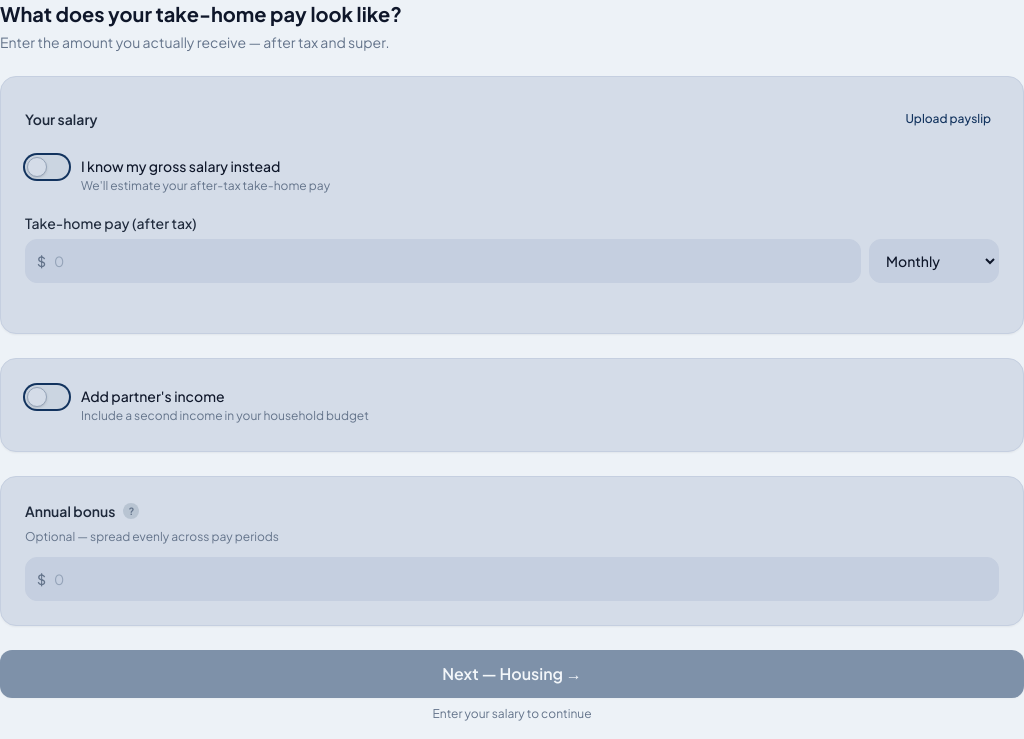
Test: StepIncome — gross toggle › turning gross toggle off hides the tax breakdown
The width and height of the screenshot is (1024, 739).
Click the checkbox labelled "gross salary": (178, 174) [25,155,330,193]
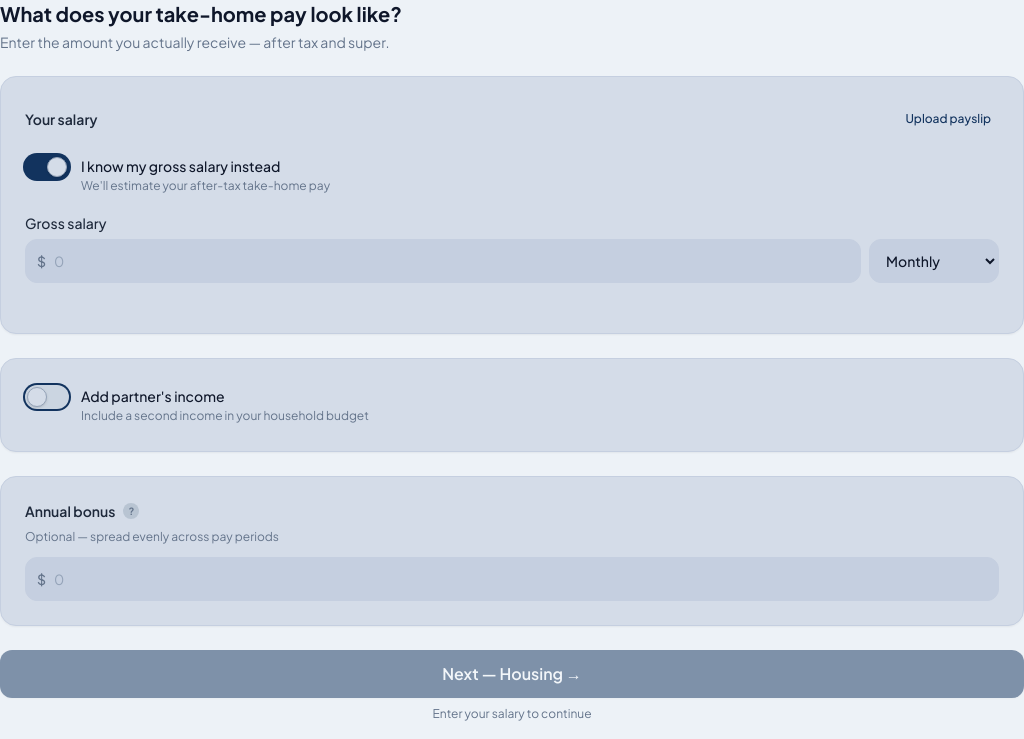
In the field labelled "Gross salary": (443, 261) [25,239,861,283], type "80000"
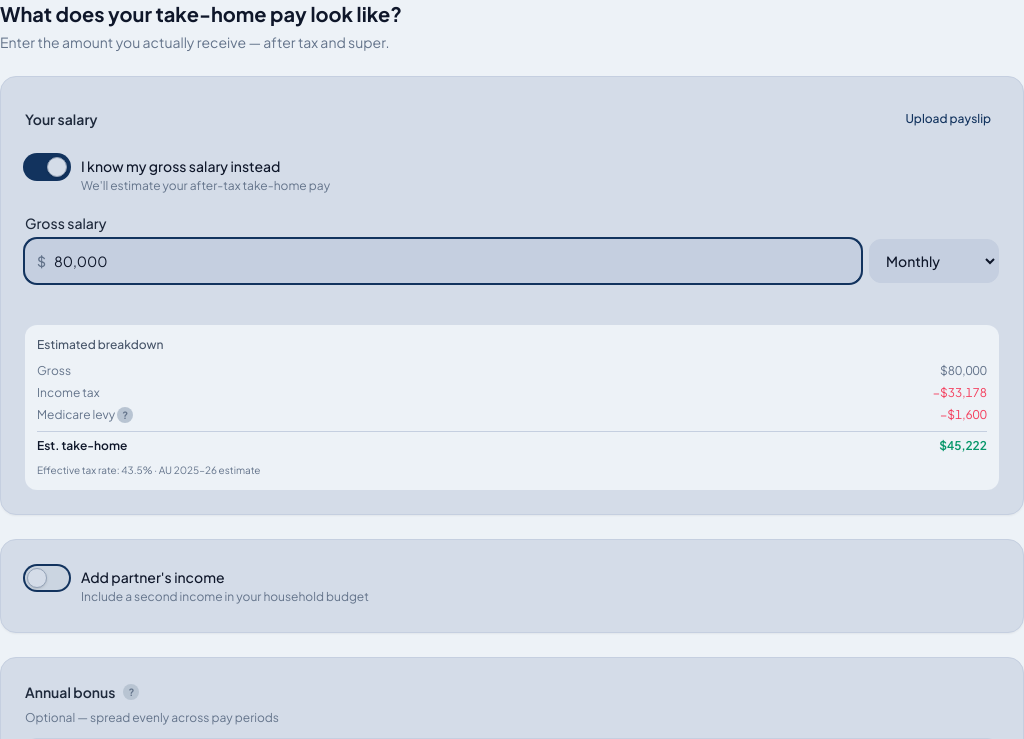
Expected: the element with test id "primary-tax-breakdown" is shown, [25,325,999,490]
Click the checkbox labelled "gross salary": (178, 174) [25,155,330,193]
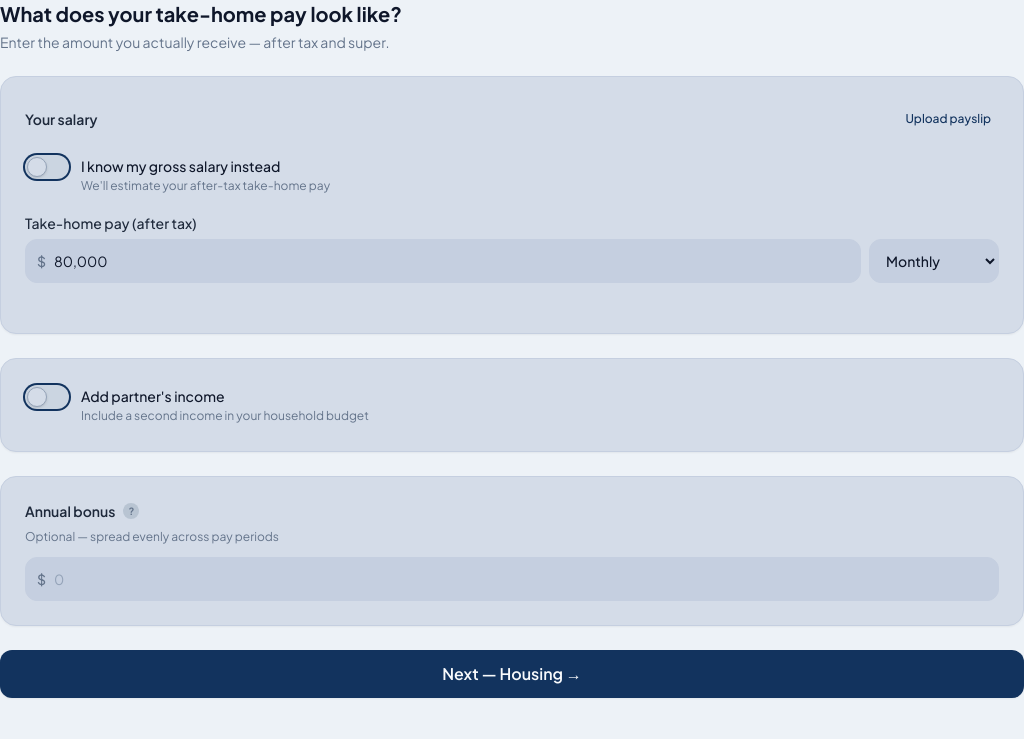
Expected: the element with test id "primary-tax-breakdown" is gone
